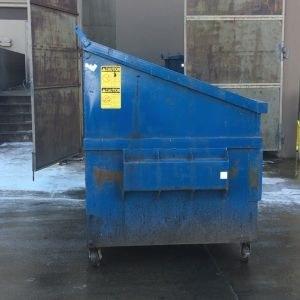Dumpster: (72, 24, 271, 269)
